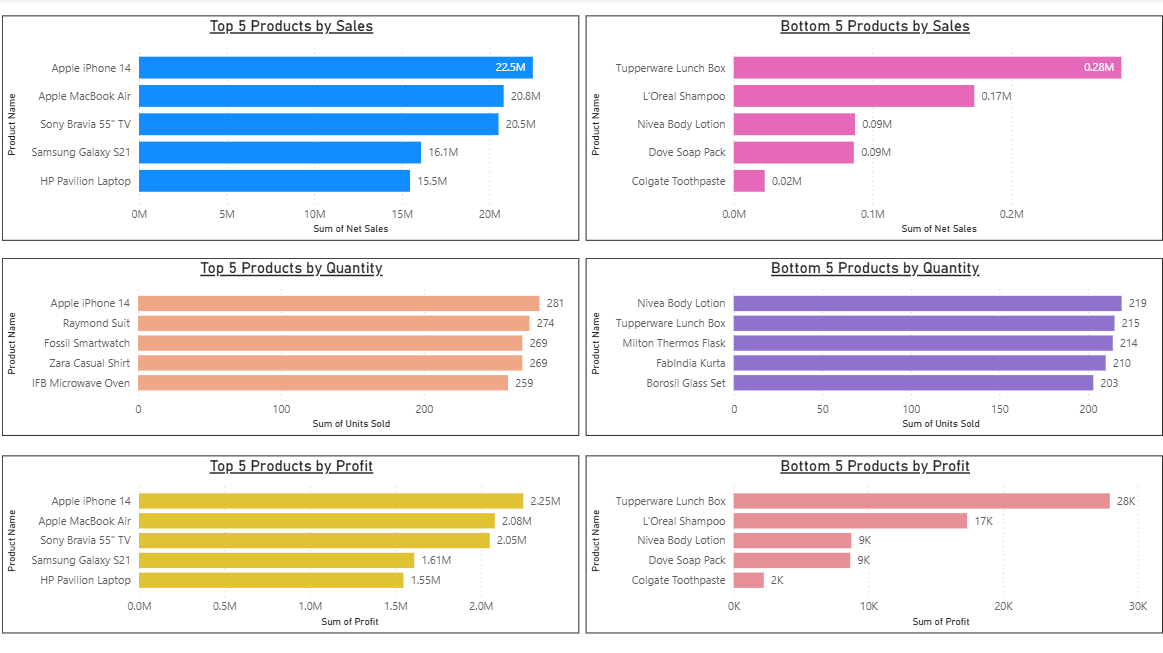

What the dashboard file says about the page in this screenshot:
{"tool":"powerbi","page":{"name":"Top/Bottom 5 Analysis","canvas":[1280,720],"ordinal":0},"visuals":[{"type":"barChart","title":"Top 5 Products by Sales","fields":{"Category":["Dim Product.Product Name"],"Y":["Sum(Fact Table.Net Sales)"]},"box":[5.5,19.2,634,247],"z":0},{"type":"barChart","title":"Bottom 5 Products by Sales","fields":{"Category":["Dim Product.Product Name"],"Y":["Sum(Fact Table.Net Sales)"]},"box":[646.3,18.8,634,247],"z":1000},{"type":"barChart","title":"Top 5 Products by Quantity","fields":{"Category":["Dim Product.Product Name"],"Y":["Sum(Fact Table.Units Sold)"]},"box":[5.5,285.4,634,194.8],"z":2000},{"type":"barChart","title":"Bottom 5 Products by Quantity","fields":{"Category":["Dim Product.Product Name"],"Y":["Sum(Fact Table.Units Sold)"]},"box":[646.3,285.4,634,194.8],"z":3000},{"type":"barChart","title":"Top 5 Products by Profit","fields":{"Category":["Dim Product.Product Name"],"Y":["Sum(Fact Table.Profit)"]},"box":[5.5,502.2,634,194.8],"z":4000},{"type":"barChart","title":"Bottom 5 Products by Profit","fields":{"Category":["Dim Product.Product Name"],"Y":["Sum(Fact Table.Profit)"]},"box":[646.3,502.2,634,194.8],"z":5000}]}

Visuals, with their boxes in screenshot pixels (x1, y1, x2, y2), scaled from the page's 1280x720 canvas onto the 1163x653 screenshot:
"Top 5 Products by Sales" barChart: <box>5,17,581,241</box>
"Bottom 5 Products by Sales" barChart: <box>587,17,1162,241</box>
"Top 5 Products by Quantity" barChart: <box>5,259,581,436</box>
"Bottom 5 Products by Quantity" barChart: <box>587,259,1162,436</box>
"Top 5 Products by Profit" barChart: <box>5,455,581,632</box>
"Bottom 5 Products by Profit" barChart: <box>587,455,1162,632</box>
